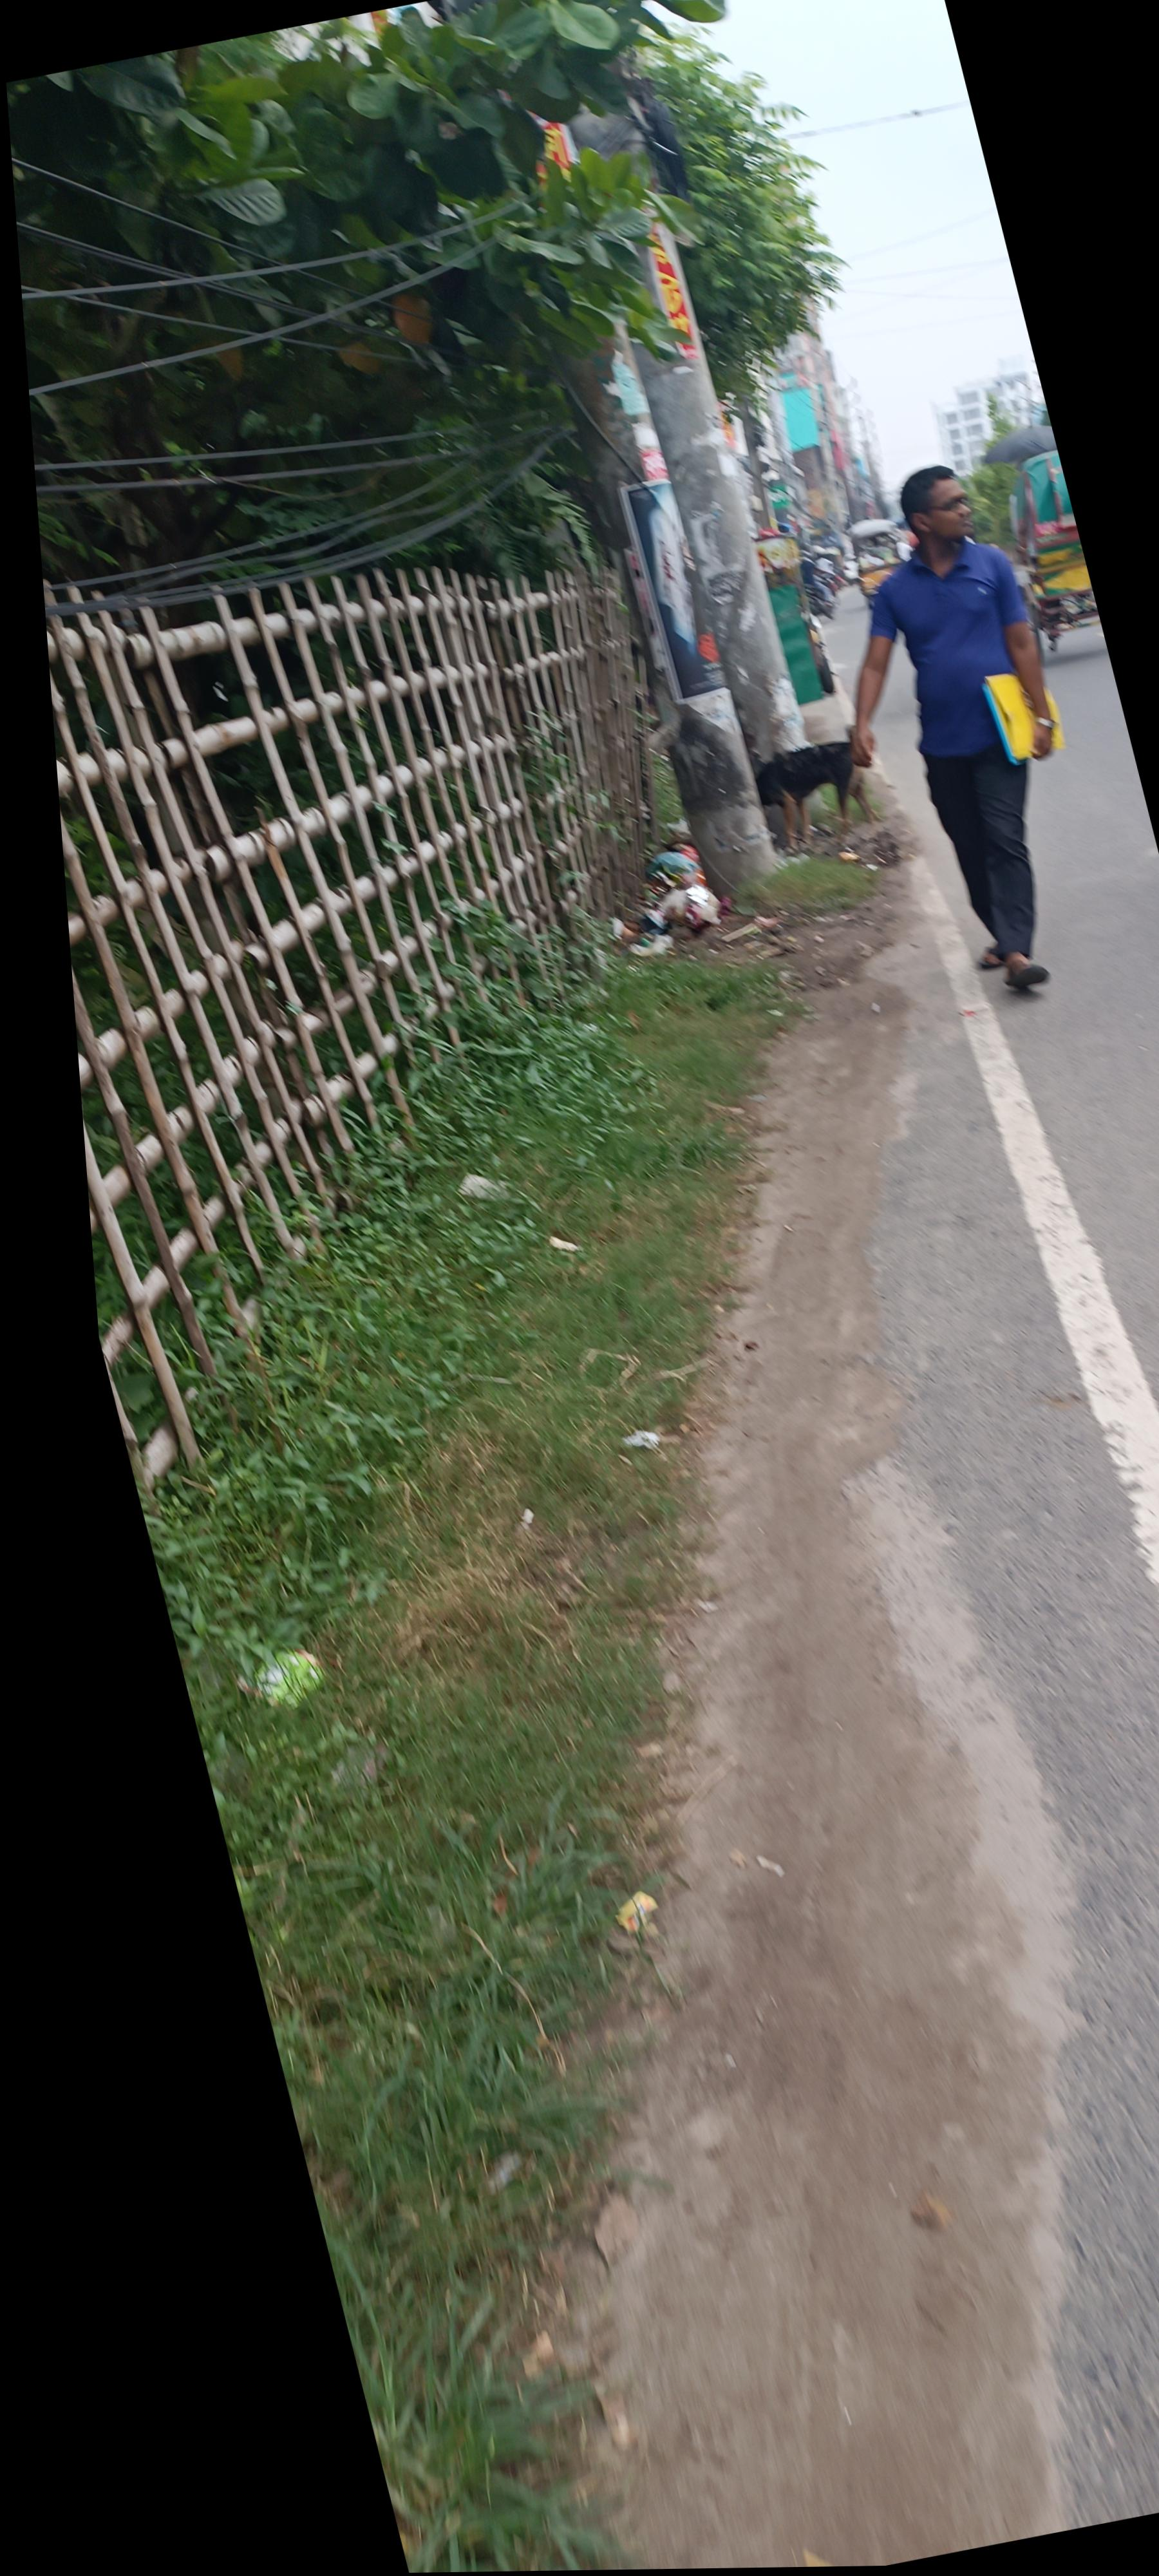Crosswalk: (537, 851, 673, 969)
Garbage-bin: (579, 572, 911, 1129)
